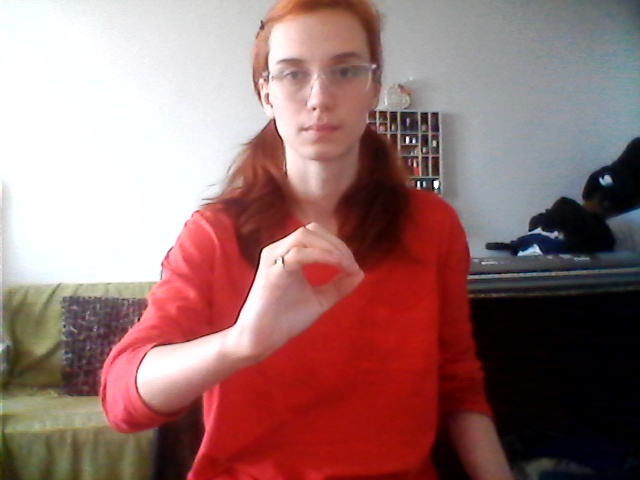o: (235, 216, 371, 358)
